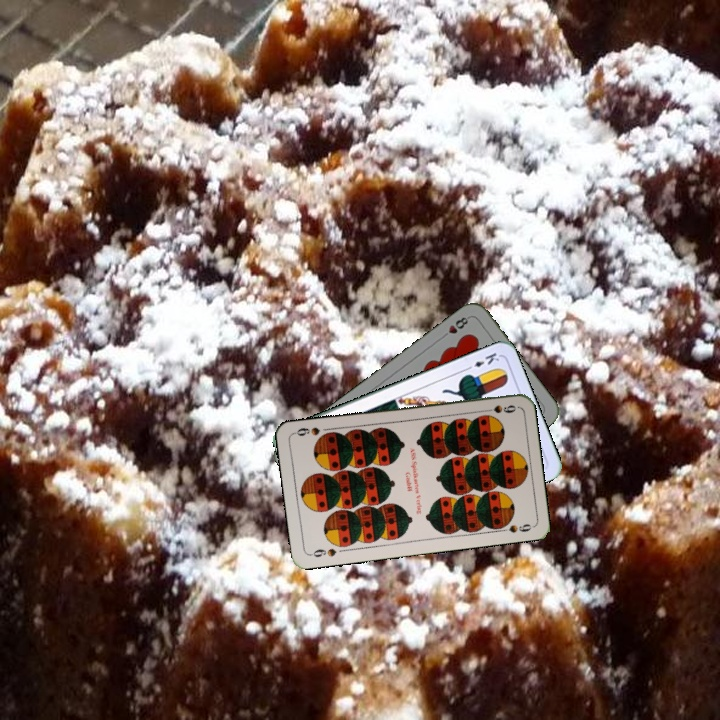EK: (462, 348, 502, 373)
H8: (437, 312, 472, 341)
S9: (478, 401, 519, 416), (306, 544, 339, 560)
